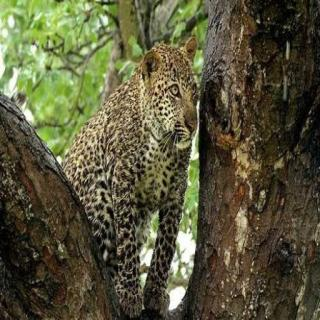Leopard: (40, 20, 198, 304)
